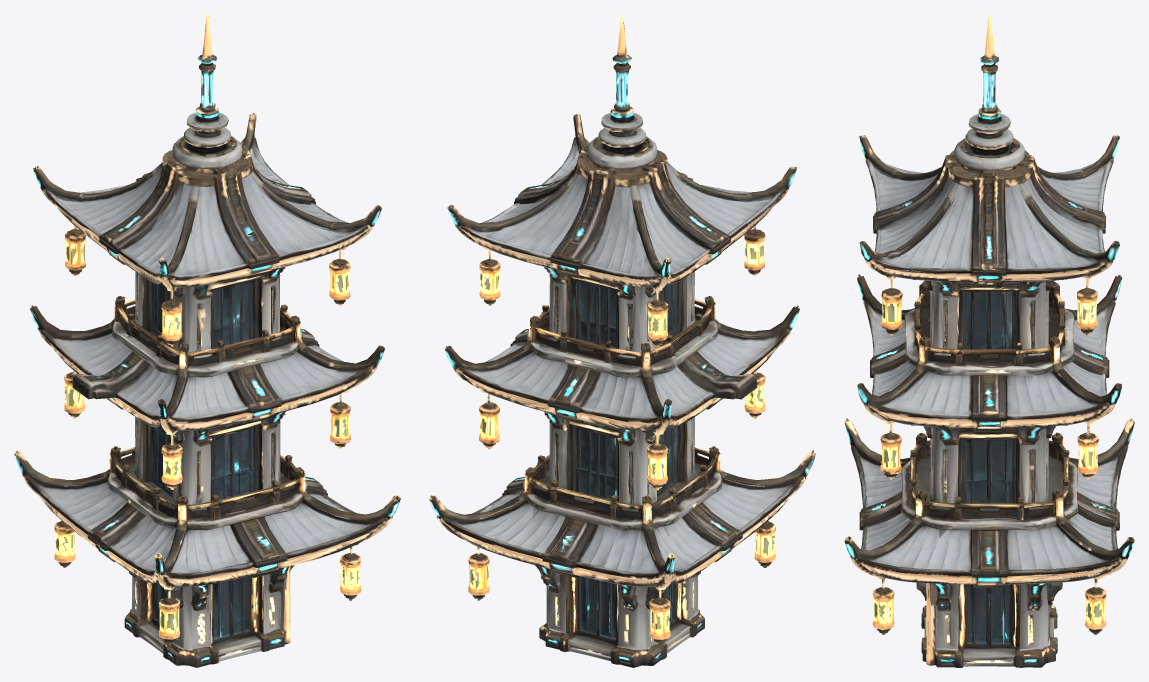
The model's file is pagoda_top.glb.
3 renders of one model, left to right at view 1: azimuth 30°, elevation 25°; view 2: azimuth 150°, elevation 25°; view 3: azimuth 270°, elevation 25°, orthographic.
Parts seen in each view (by area): view 1: pagoda_top; view 2: pagoda_top; view 3: pagoda_top.
Boxes of the visible parts, x1,y1,x2,y2 form: pagoda_top: [14, 14, 400, 667]; pagoda_top: [429, 14, 815, 667]; pagoda_top: [844, 14, 1134, 667].
Size of the model in its own units: 5.9 by 13.98 by 5.89.
Materials: 1 (1 with a texture image).
